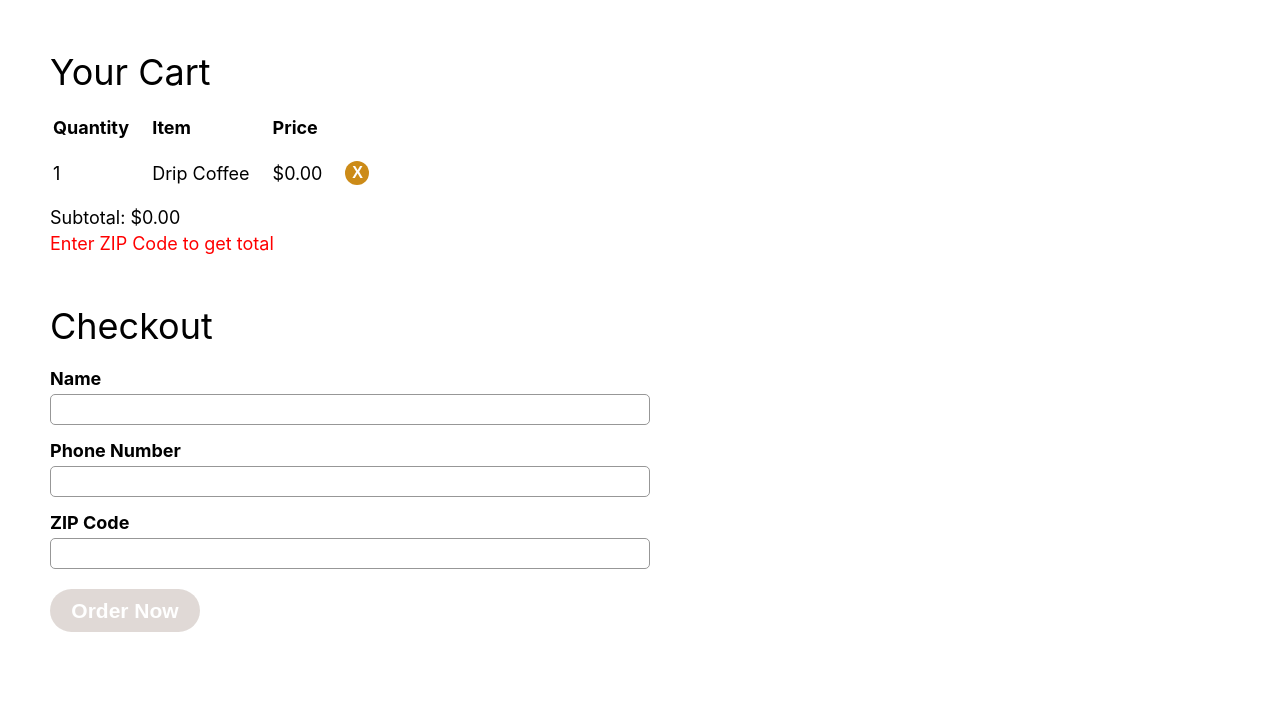
Test: Cart Errors › shows checkout failure error
The width and height of the screenshot is (1280, 710).
Expected: the button "Order Now" is disabled, [50,589,200,632]
Type "Big Nerd Ranch" into the field labelled "Name" at [350, 410], box [50,394,650,425]
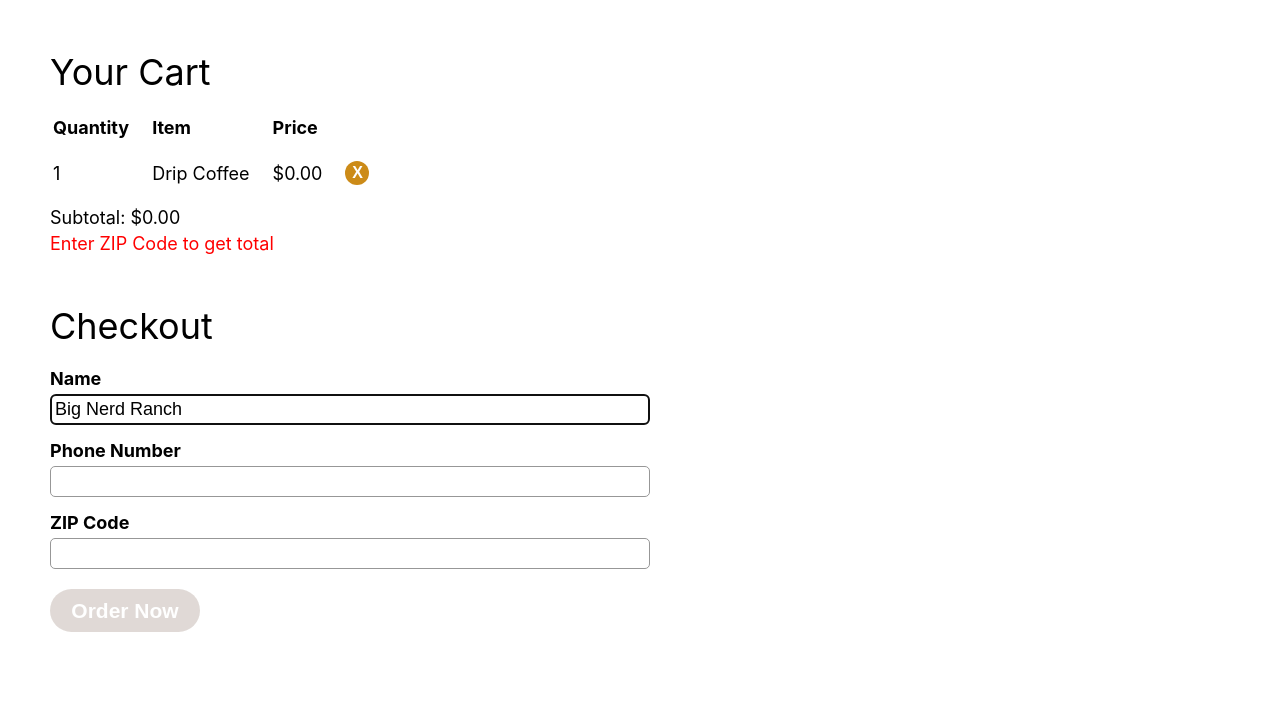
Type "30316" into the field labelled "ZIP Code" at [350, 554], box [50,538,650,569]
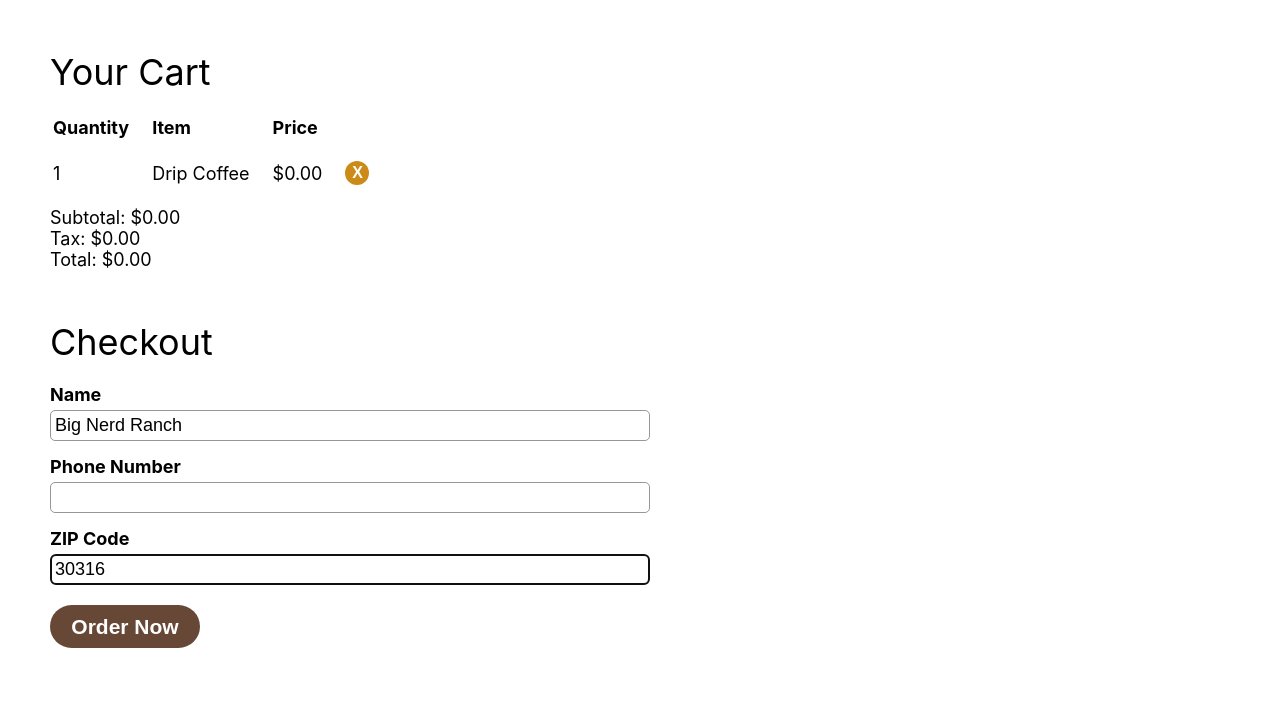
Expected: the button "Order Now" is enabled
Click the button "Order Now" at [125, 626], box [50,605,200,648]
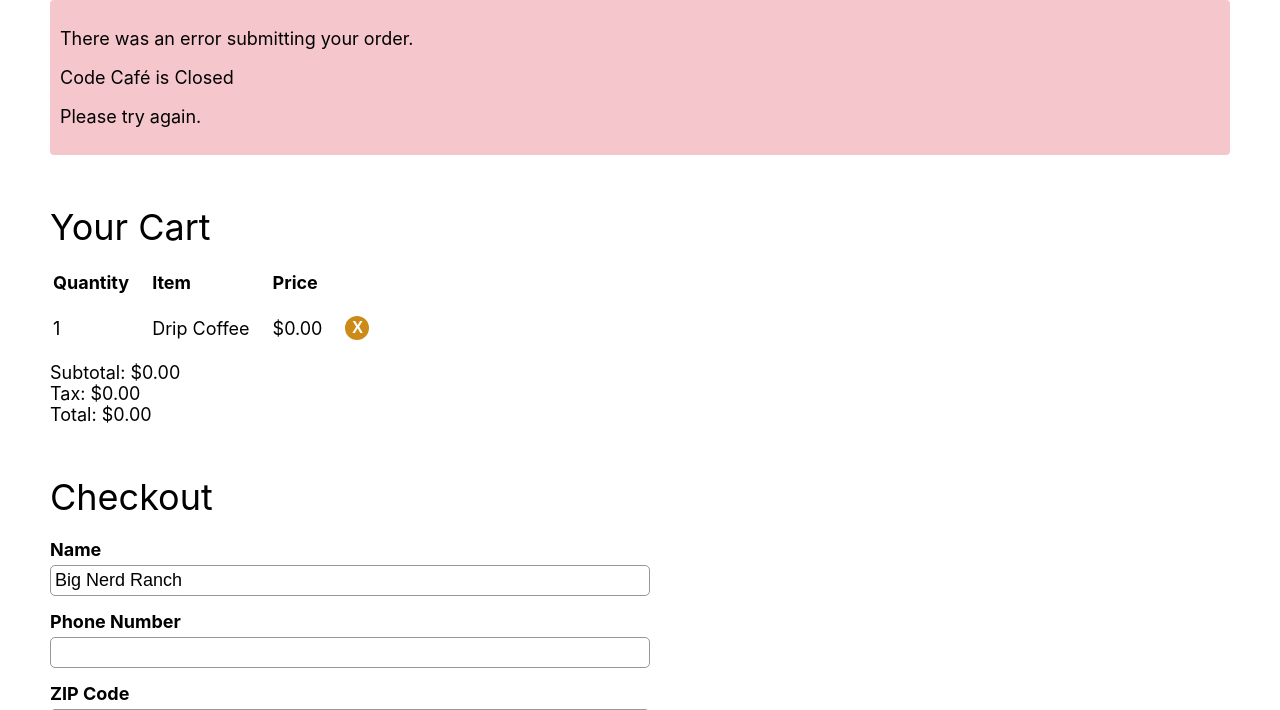
Expected: the text "Code Café is Closed" is shown, [60,67,234,88]
